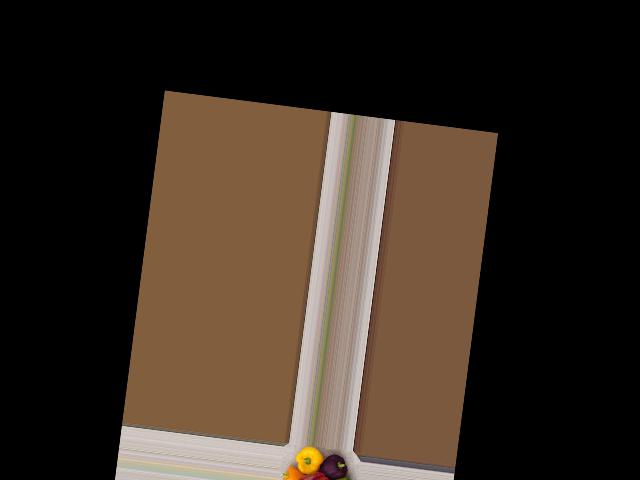bell_pepper: (317, 453, 355, 480)
